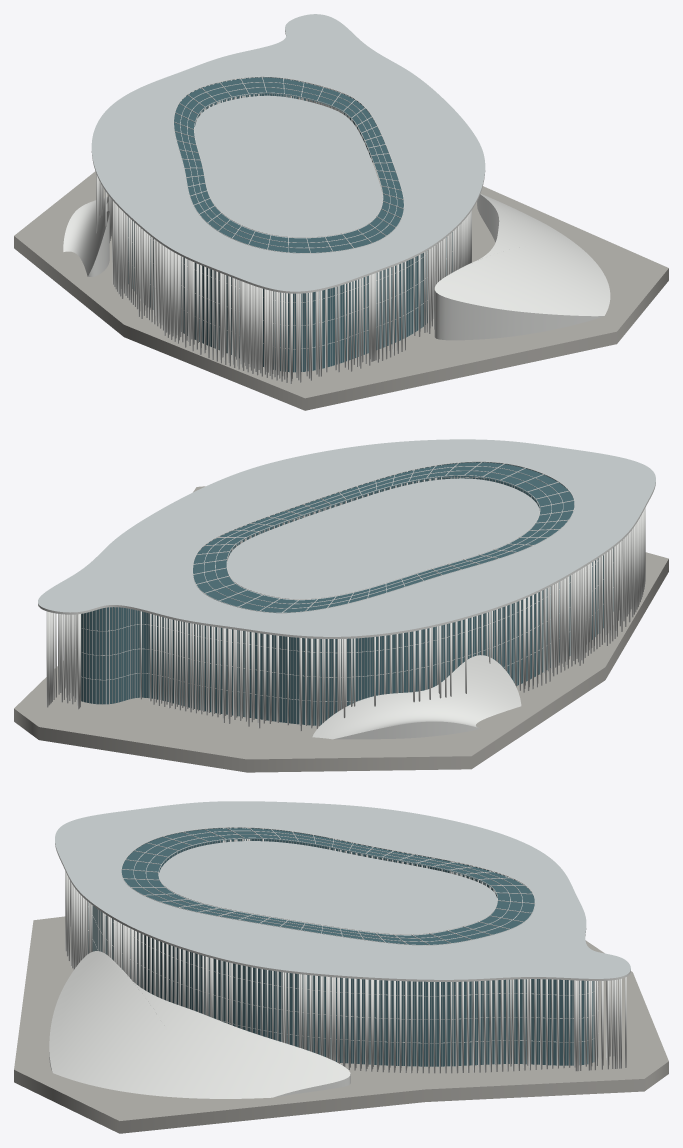
File: authored-far.glb
The picture shows the model from 3 angles, top to bottom: view 1: azimuth 30°, elevation 25°; view 2: azimuth 150°, elevation 25°; view 3: azimuth 270°, elevation 25°; orthographic projection. The views are drawn at different scales.
Visible parts, largest first — view 1: R153_MAIN_ROOF, R153_ROOF_FASCIA, R153_PLAZA_SOURCE_OUTLINE, R153_SKYLIGHT; view 2: R153_MAIN_ROOF, R153_ROOF_FASCIA, R153_SKYLIGHT, R153_PLAZA_SOURCE_OUTLINE; view 3: R153_MAIN_ROOF, R153_ROOF_FASCIA, R153_SKYLIGHT, R153_PLAZA_SOURCE_OUTLINE.
Part boxes in pixels (box(x1,y1,x2,y2)): R153_MAIN_ROOF: box(91, 14, 485, 291); R153_ROOF_FASCIA: box(63, 30, 610, 383); R153_PLAZA_SOURCE_OUTLINE: box(14, 162, 668, 410); R153_SKYLIGHT: box(128, 77, 452, 372); R153_MAIN_ROOF: box(38, 439, 655, 636); R153_ROOF_FASCIA: box(38, 461, 655, 739); R153_SKYLIGHT: box(81, 462, 613, 725); R153_PLAZA_SOURCE_OUTLINE: box(14, 486, 668, 772); R153_MAIN_ROOF: box(55, 801, 630, 979); R153_ROOF_FASCIA: box(49, 827, 630, 1098); R153_SKYLIGHT: box(88, 827, 594, 1066); R153_PLAZA_SOURCE_OUTLINE: box(14, 916, 668, 1133).
Bounding box in the file's own units: 105 × 23.5 × 126.
